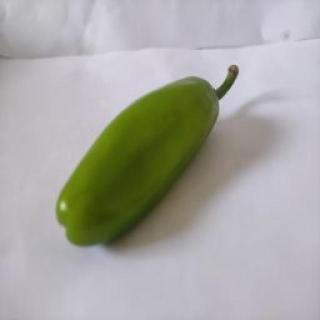Cabai Hijau: (48, 62, 244, 254)
